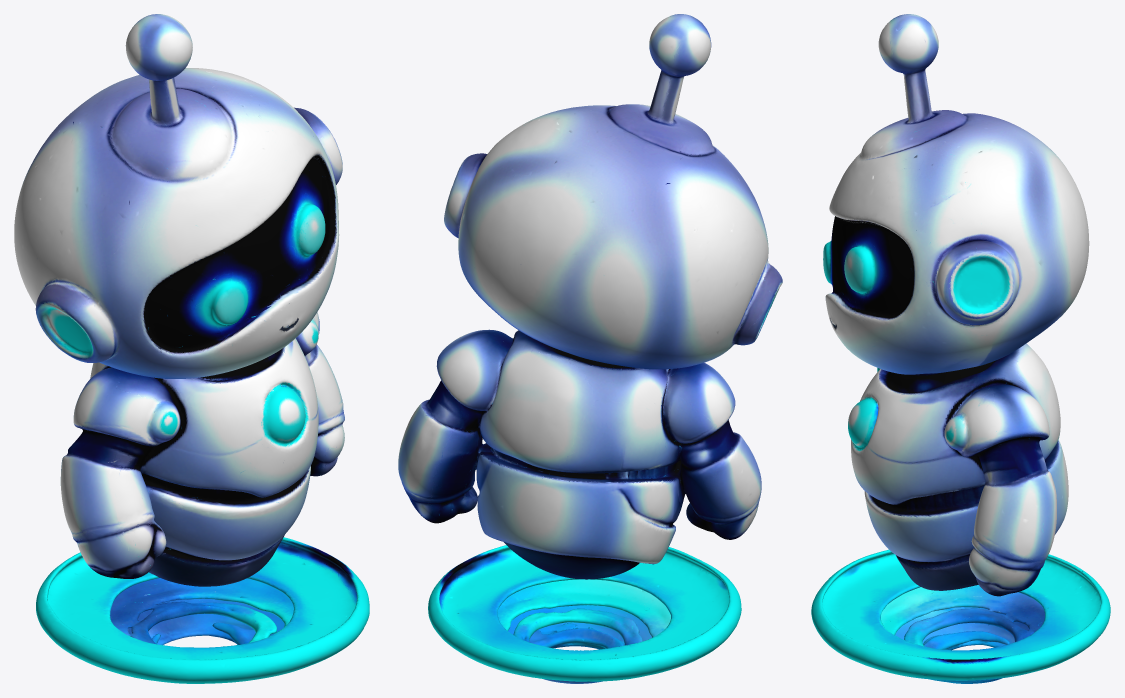
Rendered from robot_vivid_colors_smile.glb.
The picture shows the model from 3 angles, left to right: view 1: azimuth 30°, elevation 25°; view 2: azimuth 150°, elevation 25°; view 3: azimuth 270°, elevation 25°; orthographic projection. The views are drawn at different scales.
Visible parts, largest first — view 1: world; view 2: world; view 3: world.
Part boxes in pixels (x1,y1,x2,y2): world: (14, 14, 369, 683); world: (398, 14, 782, 683); world: (811, 14, 1110, 683).
Bounding box in the file's own units: 0.526 × 1 × 0.4418.
1 material, 1 textured.
